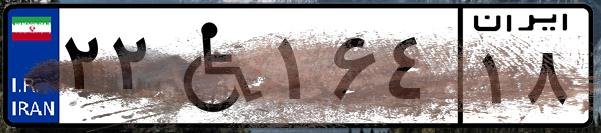1: (270, 28, 330, 110), (475, 38, 525, 113)
2: (57, 26, 110, 100), (110, 28, 158, 98)
4: (385, 28, 445, 110)
6: (330, 28, 385, 110)
8: (525, 38, 570, 115)
ژ (معلولین و جانبازان): (158, 12, 270, 120)
